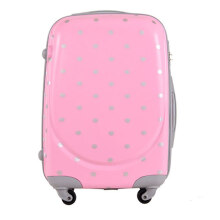luggage: (36, 9, 175, 204)
